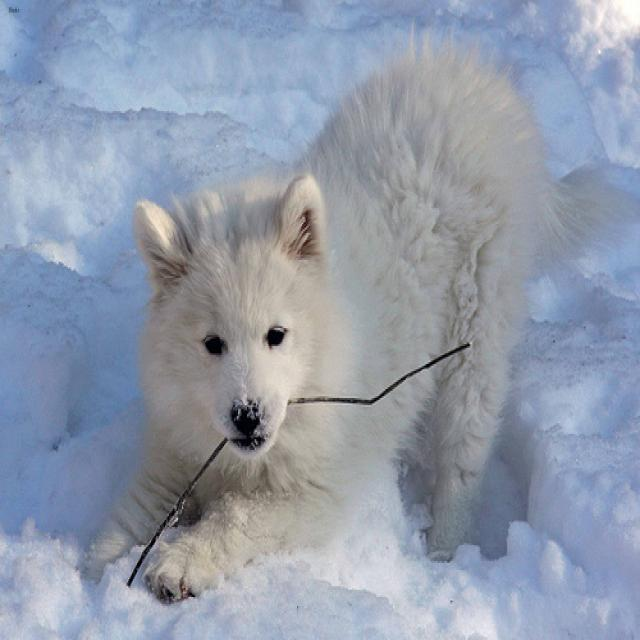dog-samoyed: (67, 43, 637, 610)
